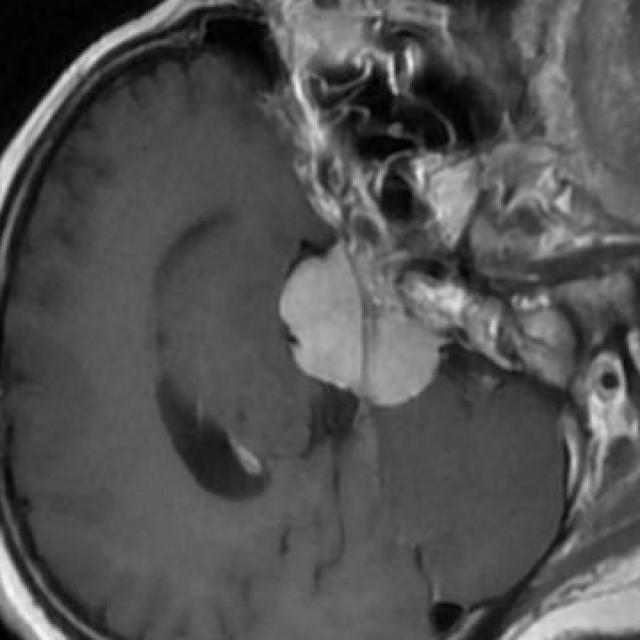meningioma: (280, 239, 446, 408)
